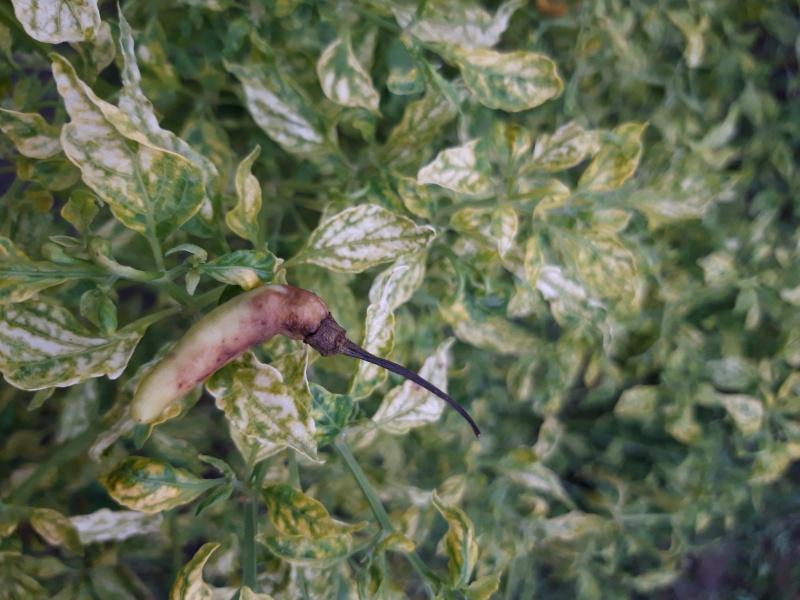antraknosa: (130, 283, 342, 428)
